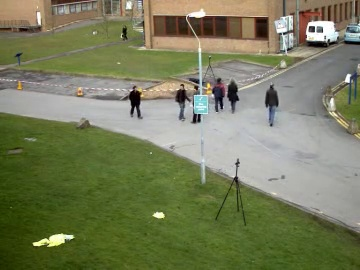person: (175, 82, 192, 119), (126, 83, 141, 118)
